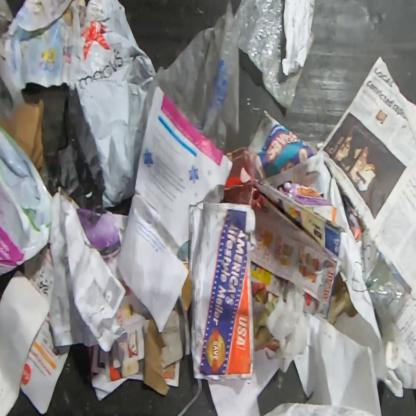cardboard: (20, 246, 73, 414), (254, 149, 352, 233), (0, 98, 46, 172), (223, 144, 267, 210), (142, 313, 172, 397), (326, 272, 358, 327)
soft_plastic: (60, 0, 156, 211), (143, 0, 242, 155), (22, 82, 104, 211), (0, 125, 54, 280), (234, 0, 304, 111), (265, 269, 309, 374), (365, 254, 408, 340), (0, 0, 27, 122), (175, 378, 203, 415), (305, 30, 316, 62)
